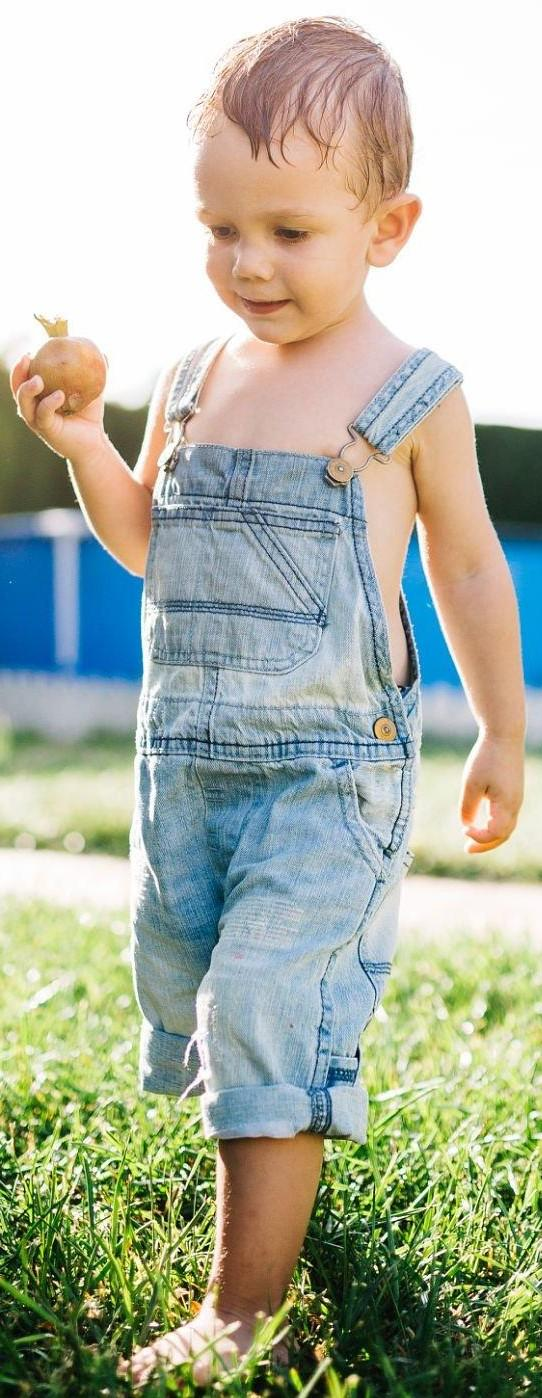Healthy: (197, 103, 389, 341)
